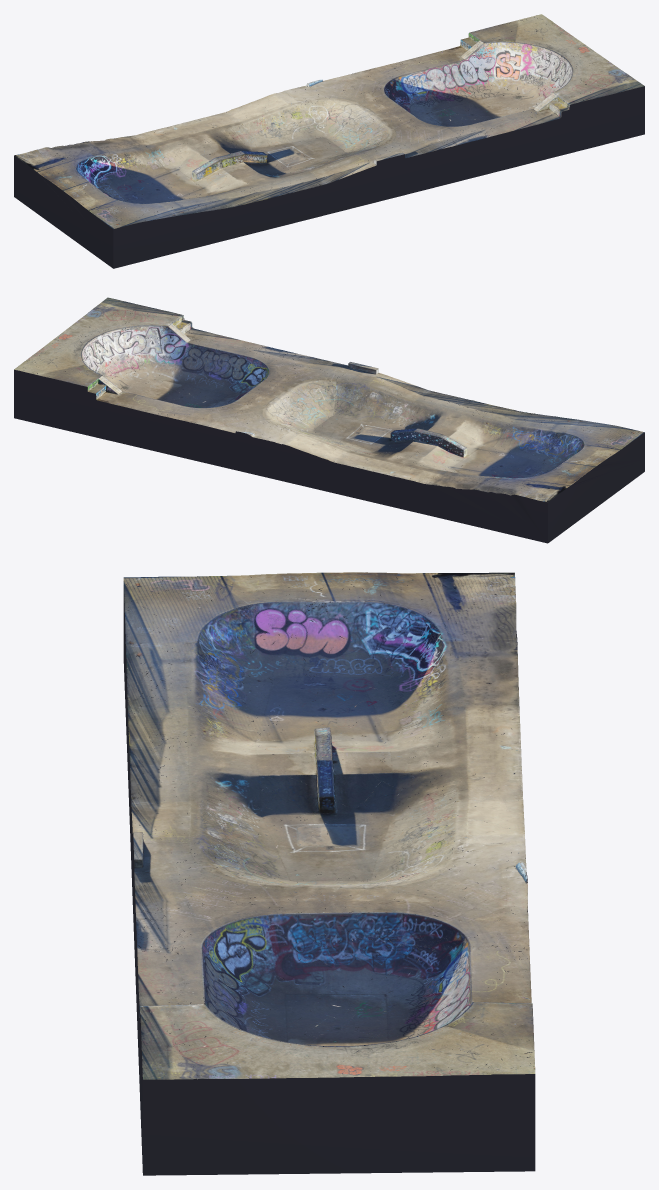
Rendered from finsbury.glb.
3 renders of one model, top to bottom at view 1: azimuth 30°, elevation 25°; view 2: azimuth 150°, elevation 25°; view 3: azimuth 270°, elevation 25°, orthographic. The views are drawn at different scales.
Parts seen in each view (by area): view 1: Object_2, Object_4, Object_5, Object_6, Object_3, Object_7; view 2: Object_2, Object_4, Object_6, Object_5, Object_3, Object_7; view 3: Object_2, Object_4, Object_6, Object_3, Object_5, Object_7.
Part boxes in pixels (bbox=[...]): Object_2: bbox=[14, 14, 644, 268]; Object_4: bbox=[51, 42, 517, 202]; Object_5: bbox=[119, 41, 640, 203]; Object_6: bbox=[65, 15, 610, 227]; Object_3: bbox=[20, 88, 531, 218]; Object_7: bbox=[118, 27, 628, 203]; Object_2: bbox=[14, 297, 644, 543]; Object_4: bbox=[130, 361, 544, 492]; Object_6: bbox=[15, 309, 641, 468]; Object_5: bbox=[77, 299, 566, 474]; Object_3: bbox=[123, 325, 621, 498]; Object_7: bbox=[48, 311, 573, 473]; Object_2: bbox=[123, 572, 535, 1175]; Object_4: bbox=[140, 602, 521, 1046]; Object_6: bbox=[123, 574, 534, 1077]; Object_3: bbox=[143, 572, 514, 1045]; Object_5: bbox=[130, 630, 514, 1079]; Object_7: bbox=[131, 631, 501, 1063].
Size of the model in its own units: 33.21 by 2.93 by 11.11.
1 material, 1 textured.
